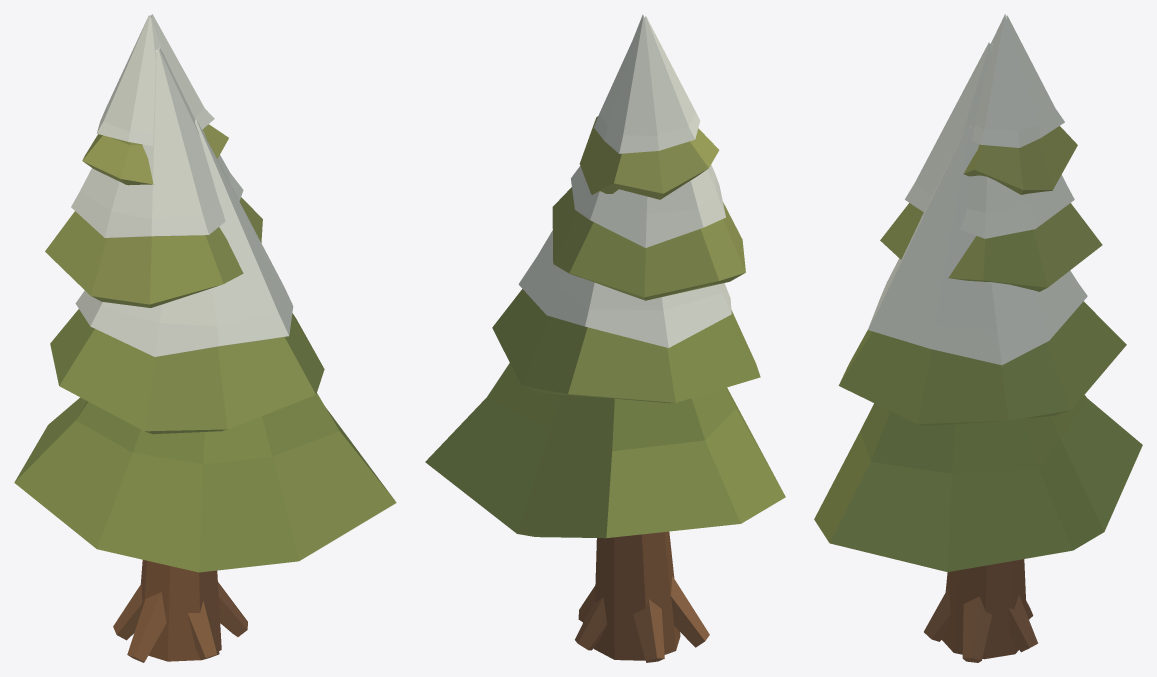
Rendered from forage_0_winter.glb.
3 renders of one model, left to right at view 1: azimuth 30°, elevation 25°; view 2: azimuth 150°, elevation 25°; view 3: azimuth 270°, elevation 25°, orthographic. The views are drawn at different scales.
Parts seen in each view (by area): view 1: Rohstoff 0 · winter; view 2: Rohstoff 0 · winter; view 3: Rohstoff 0 · winter.
Part boxes in pixels (x1=…): Rohstoff 0 · winter: x1=14, y1=14, x2=396, y2=662; Rohstoff 0 · winter: x1=425, y1=14, x2=785, y2=662; Rohstoff 0 · winter: x1=814, y1=14, x2=1142, y2=662.
Bounding box in the file's own units: 2.53 × 5.03 × 2.42.
